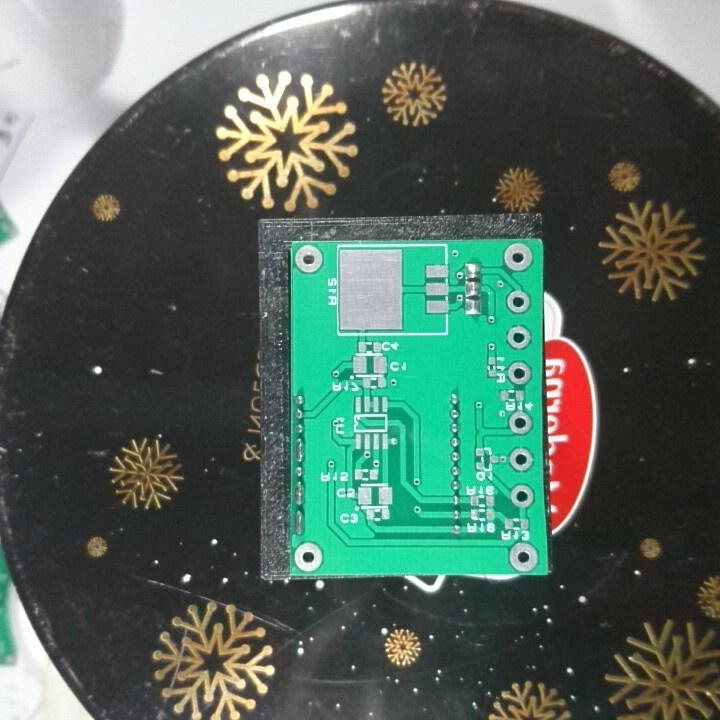F: (291, 539, 325, 572), (507, 540, 541, 572), (500, 242, 534, 272), (294, 243, 325, 274), (504, 324, 534, 351), (508, 447, 536, 475), (505, 359, 533, 386), (508, 483, 536, 510), (505, 287, 531, 315), (507, 410, 536, 435)
P: (292, 507, 308, 537), (293, 438, 308, 466), (293, 478, 308, 506)
